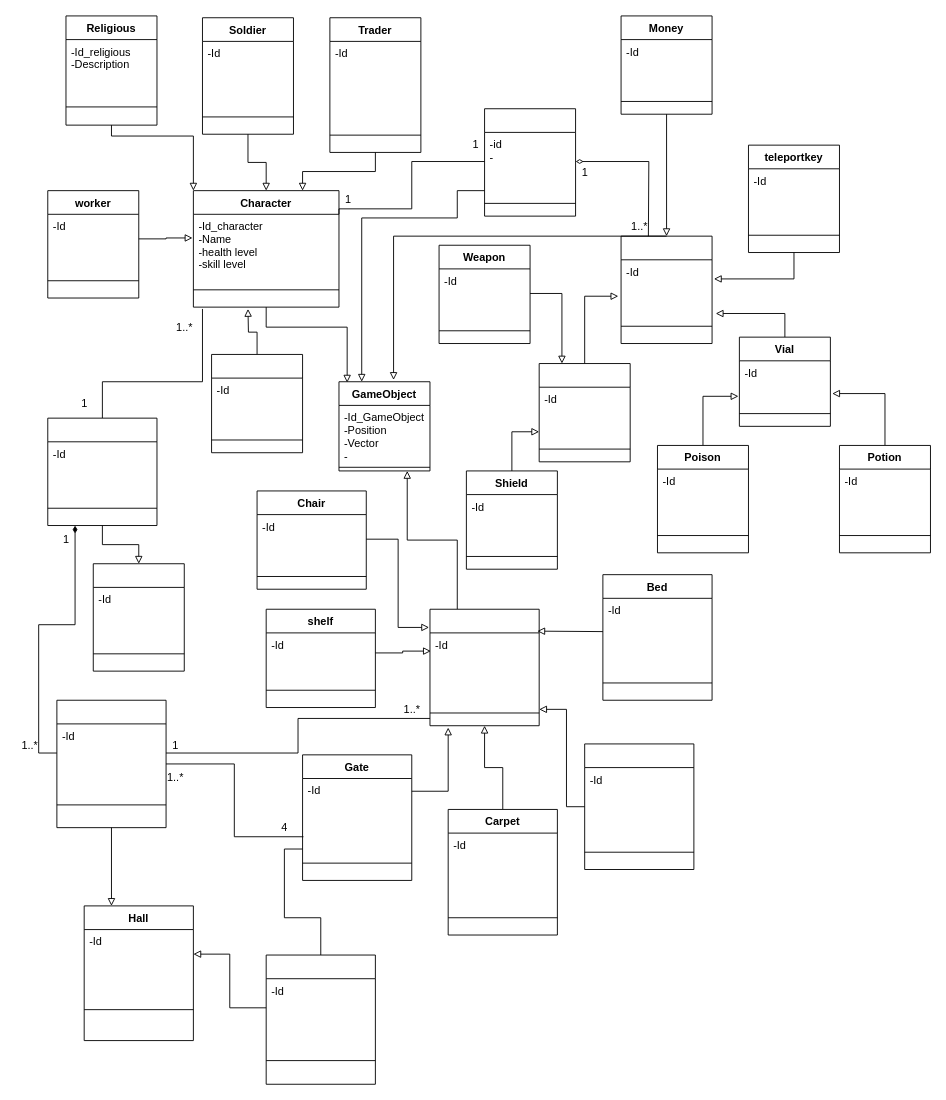
The diagram is 946 pixels wide and 1100 high, and some of its shapes have lost their labels. Here are the shapes that lost their labels. From the top down, the box of each, then its label:
(484, 108, 576, 216): Bag
(620, 235, 712, 344): Item
(211, 354, 303, 453): Druid
(538, 363, 630, 462): Armory
(47, 417, 157, 526): House
(92, 563, 184, 671): Game_Map
(429, 608, 539, 726): NotMovableObject
(56, 699, 166, 828): Room
(584, 743, 694, 870): Table
(265, 954, 375, 1084): Lounge
